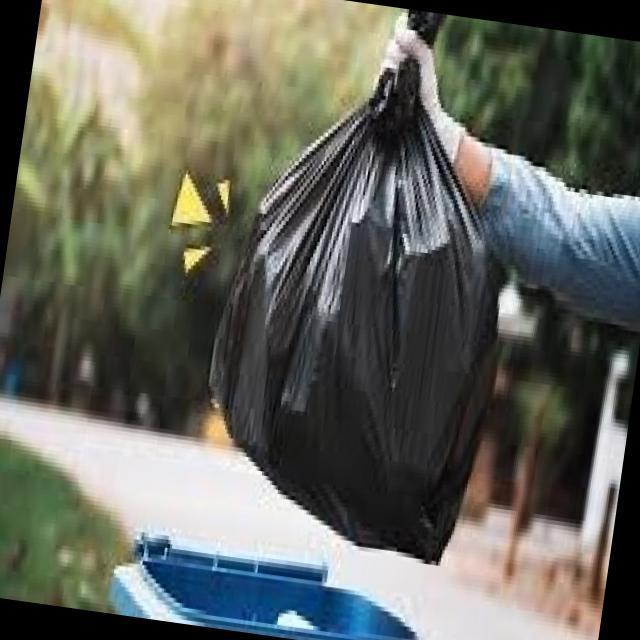garbage: (187, 0, 545, 574)
